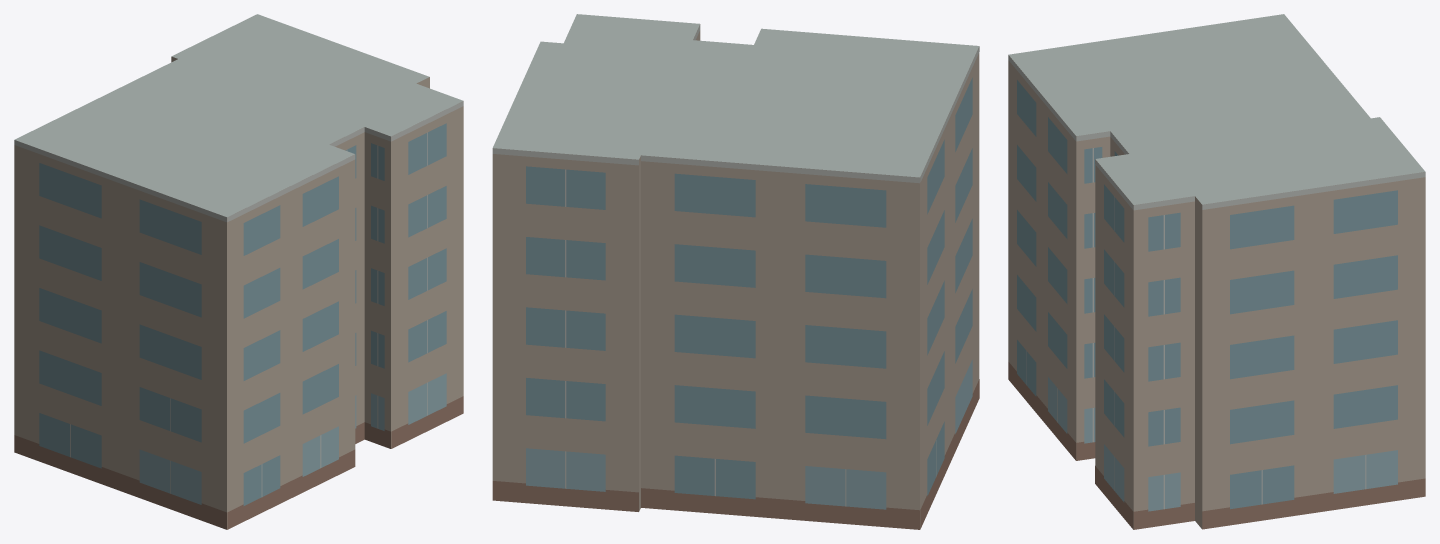
Rendered from survey-upis-32661131.glb.
The picture shows the model from 3 angles, left to right: view 1: azimuth 30°, elevation 25°; view 2: azimuth 150°, elevation 25°; view 3: azimuth 270°, elevation 25°; orthographic projection. The views are drawn at different scales.
Parts seen in each view (by area): view 1: survey-upis-32661131.tmp; view 2: survey-upis-32661131.tmp; view 3: survey-upis-32661131.tmp.
Part boxes in pixels (x1=…): survey-upis-32661131.tmp: x1=14, y1=14, x2=463, y2=529; survey-upis-32661131.tmp: x1=492, y1=14, x2=979, y2=529; survey-upis-32661131.tmp: x1=1008, y1=14, x2=1425, y2=529.
Size of the model in its own units: 18.83 by 14.91 by 17.37.
